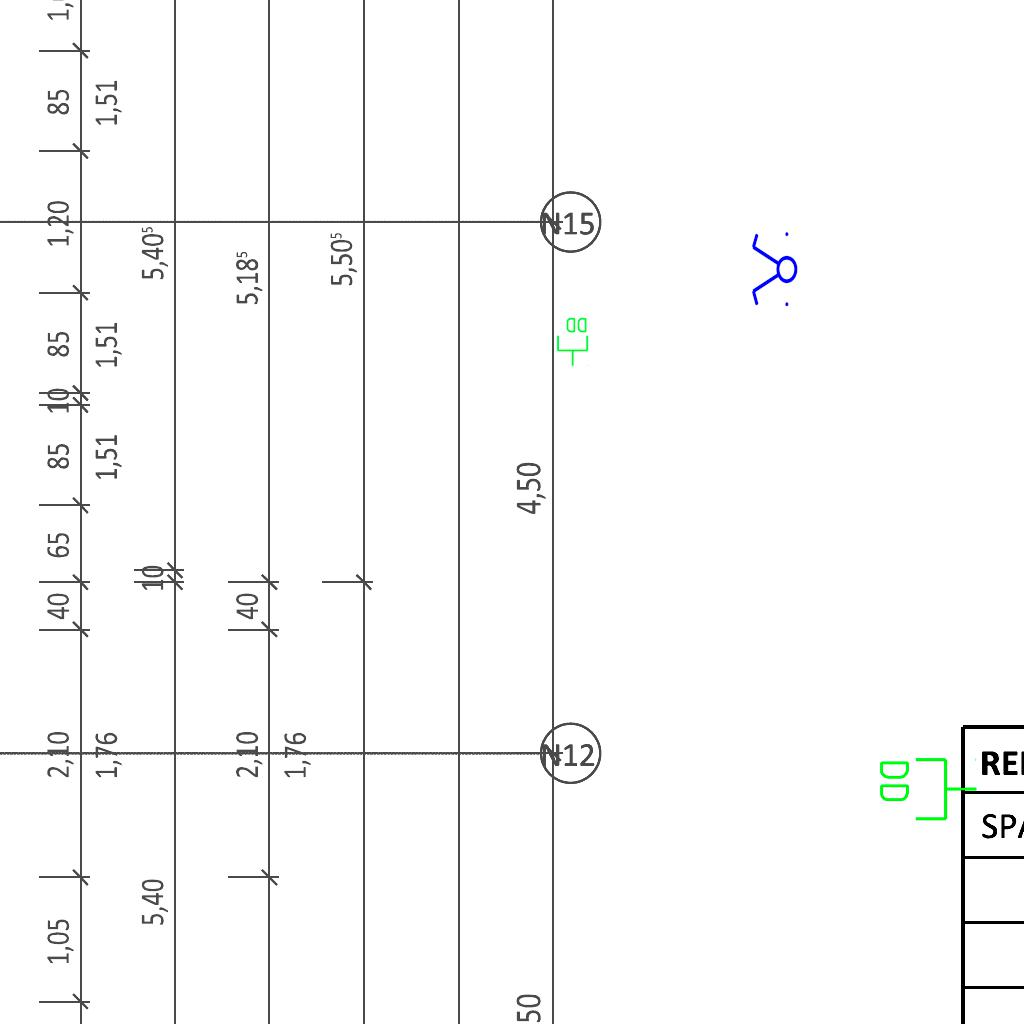Datenanschluss_zweifach: (876, 754, 979, 823), (556, 316, 590, 367)
Serienschalter: (750, 228, 798, 312)
